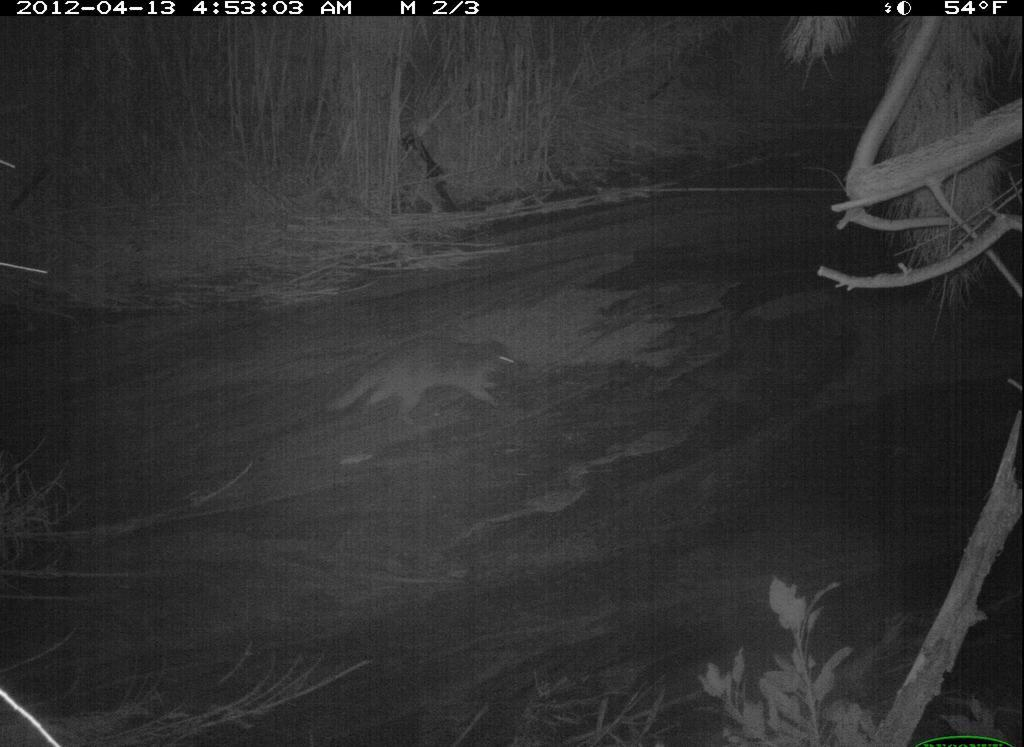raccoon: (313, 328, 533, 437)
